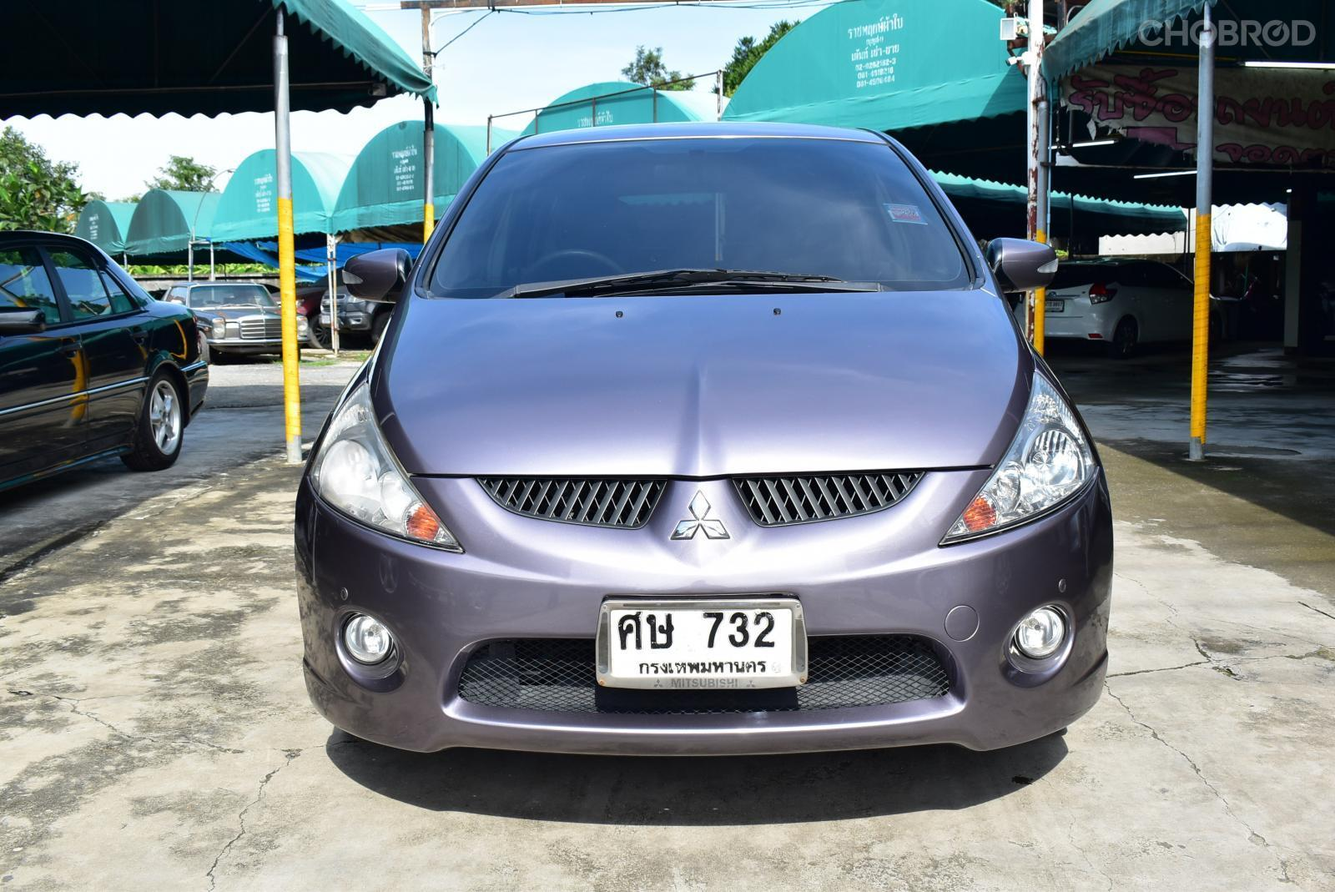license-plate: (589, 590, 820, 700)
